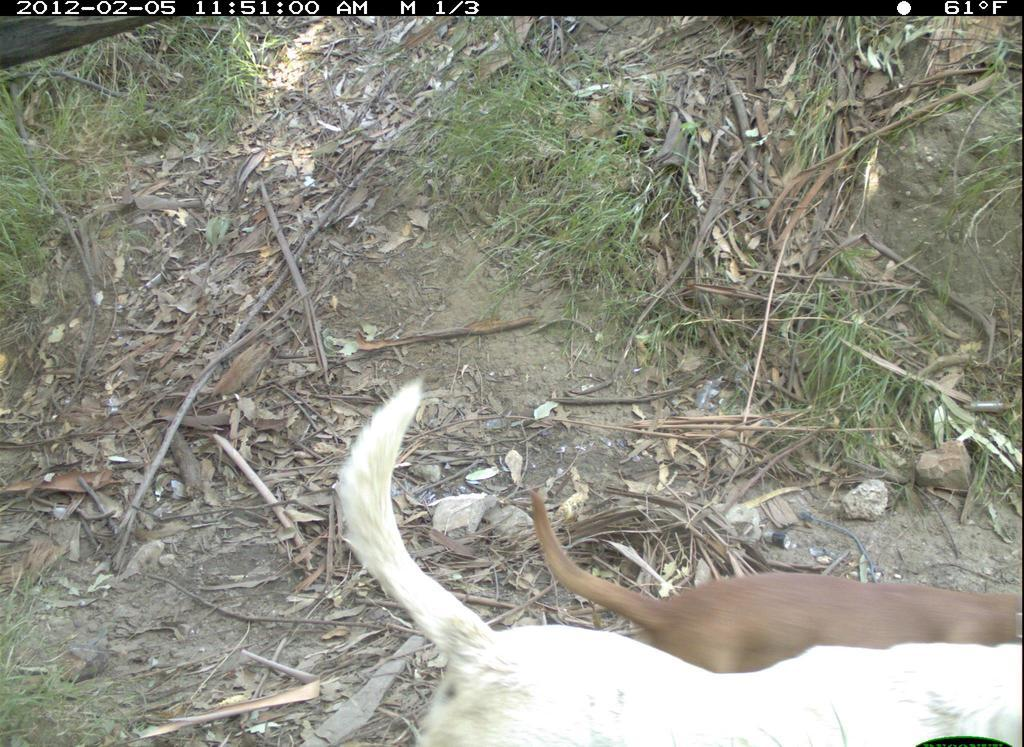dog: (335, 377, 1023, 747), (534, 482, 1022, 703)
